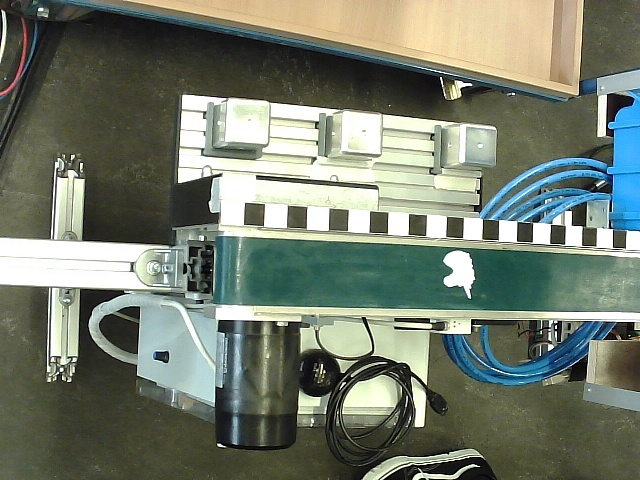unicorn: (442, 248, 475, 300)
